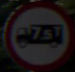Heavy Vehicles: (9, 4, 65, 56)
